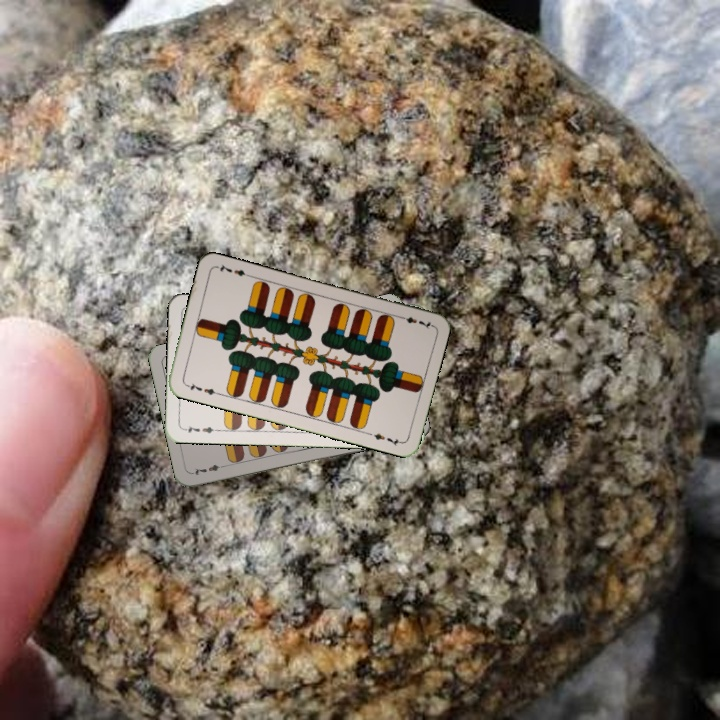E7: (395, 312, 434, 332), (181, 379, 221, 397), (189, 461, 229, 478), (179, 422, 220, 436)
